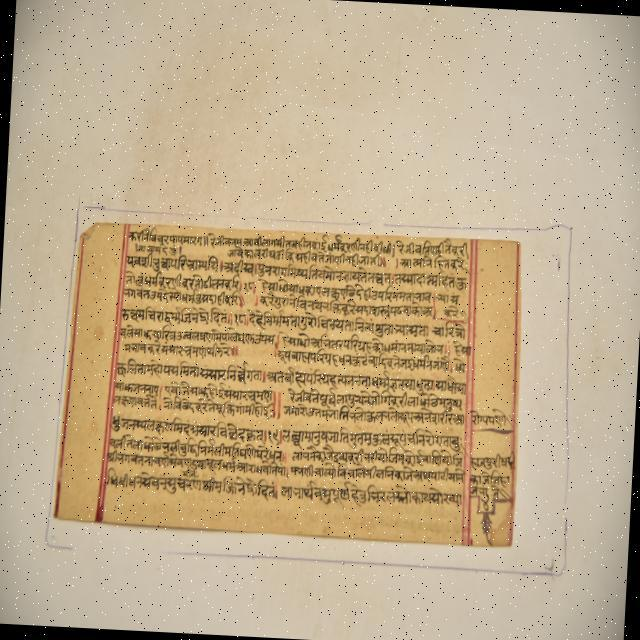text_paragraph: (52, 217, 518, 545)
